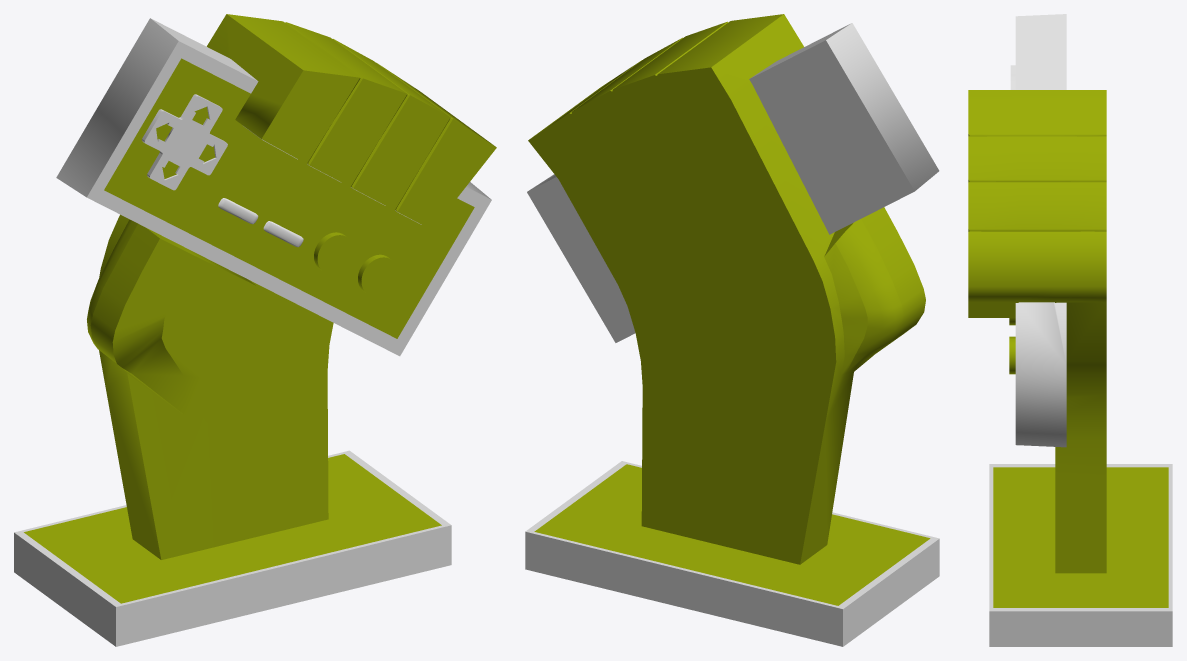
Rendered from GDG_Hand_3D.fbx.
3 renders of one model, left to right at view 1: azimuth 30°, elevation 25°; view 2: azimuth 150°, elevation 25°; view 3: azimuth 270°, elevation 25°, orthographic. The views are drawn at different scales.
Visible parts, largest first — view 1: Cube.013; view 2: Cube.013; view 3: Cube.013.
Part boxes in pixels (x1=…): Cube.013: x1=14, y1=14, x2=496, y2=646; Cube.013: x1=525, y1=14, x2=939, y2=646; Cube.013: x1=968, y1=14, x2=1172, y2=646.
Size of the model in its own units: 18.45 by 24.9 by 8.86.
